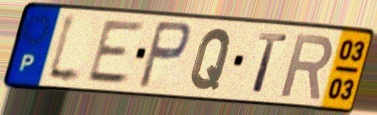E: (84, 19, 148, 86)
L: (43, 10, 86, 89)
P: (135, 19, 194, 92)
Q: (187, 26, 234, 92)
R: (278, 30, 336, 101)
T: (250, 30, 290, 96)
